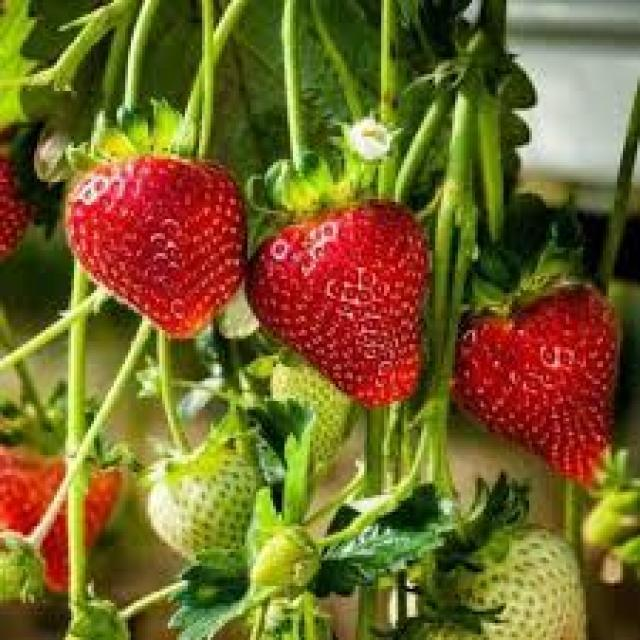strawberry: (245, 197, 430, 406), (453, 281, 623, 487), (67, 152, 248, 340), (0, 426, 122, 592), (417, 532, 585, 640), (148, 452, 258, 570), (271, 362, 356, 462)
